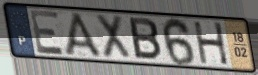6: (160, 15, 197, 67)
A: (63, 11, 106, 60)
B: (127, 16, 163, 62)
E: (28, 9, 67, 57)
H: (191, 20, 231, 66)
X: (94, 12, 133, 62)
